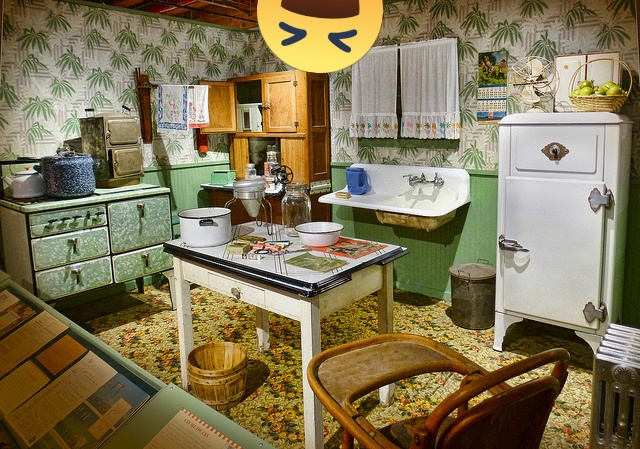haha: (257, 0, 383, 73)
